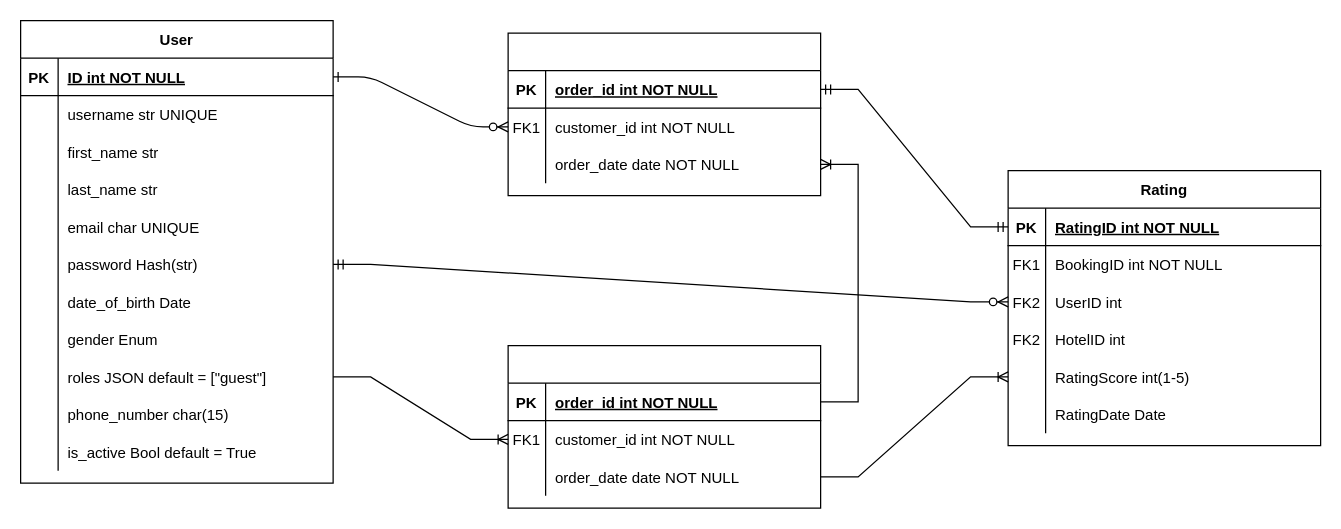
This 1341x529 diagram has some shape labels left out. Each missing label, with the box of its shape:
Booking: (507, 32, 821, 196)
Hotel: (507, 344, 821, 508)
